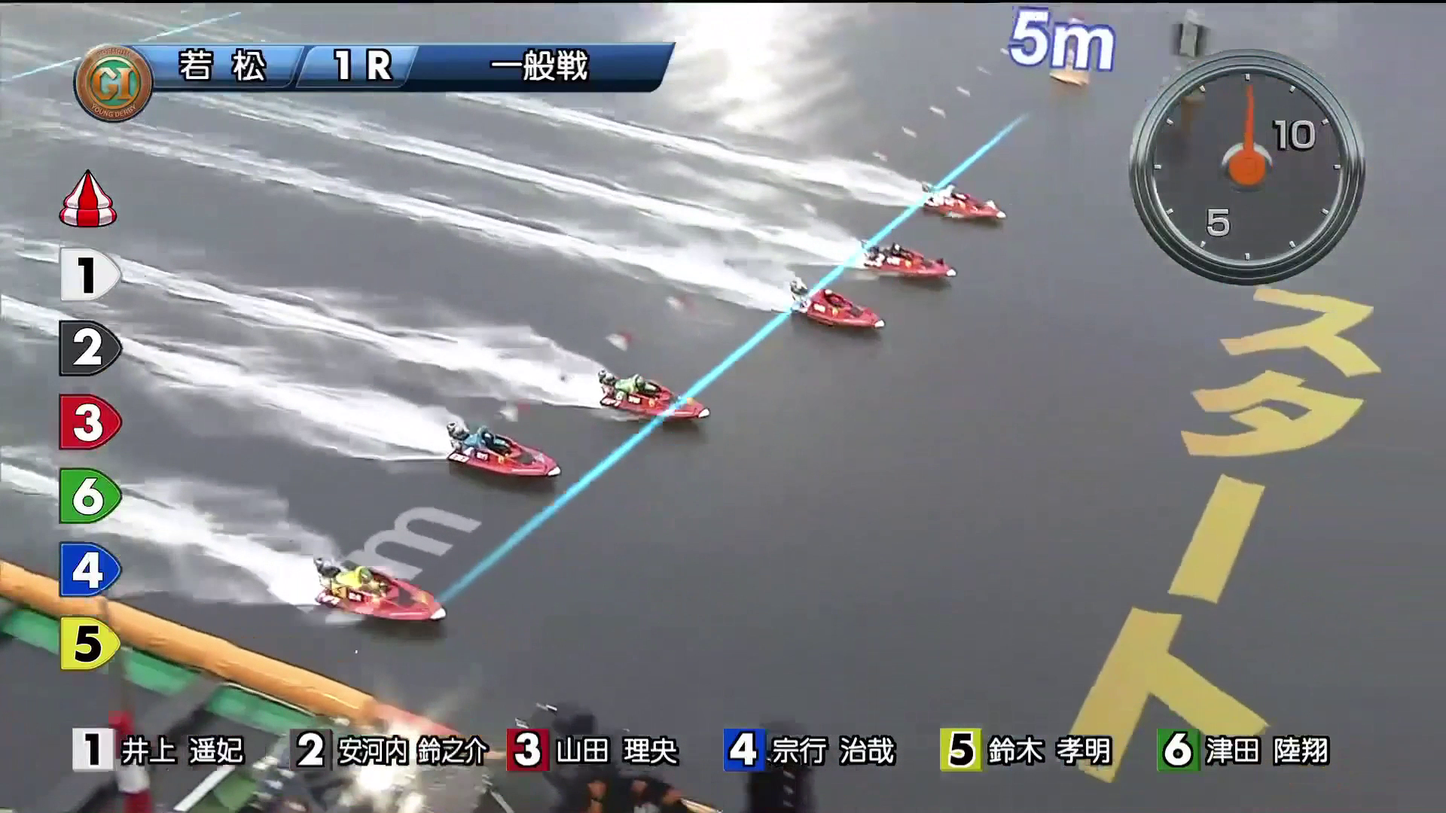１号艇: (876, 190, 951, 236)
２号艇: (872, 247, 934, 285)
３号艇: (804, 290, 859, 331)
４号艇: (631, 378, 696, 421)
５号艇: (497, 454, 566, 492)
６号艇: (411, 598, 477, 644)
